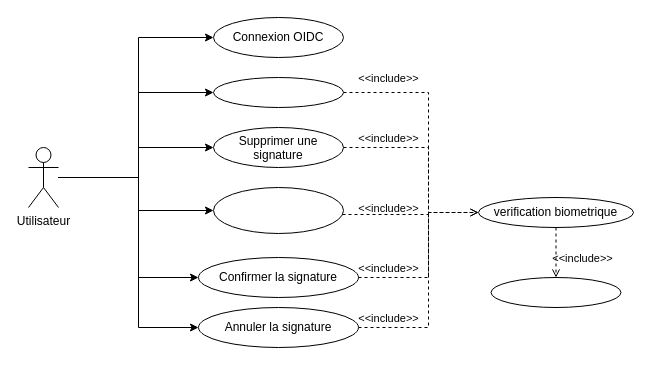
Some shapes in this 651 by 365 pixel diagram are drawn without their labels. The shapes that lost their labels are listed below. From the top down, each one's centre as x and y in pixels, then its label:
At pixel 278 92: "Créer une signature".
At pixel 278 210: "Modifier une signature".
At pixel 555 292: "s'authentifier".
